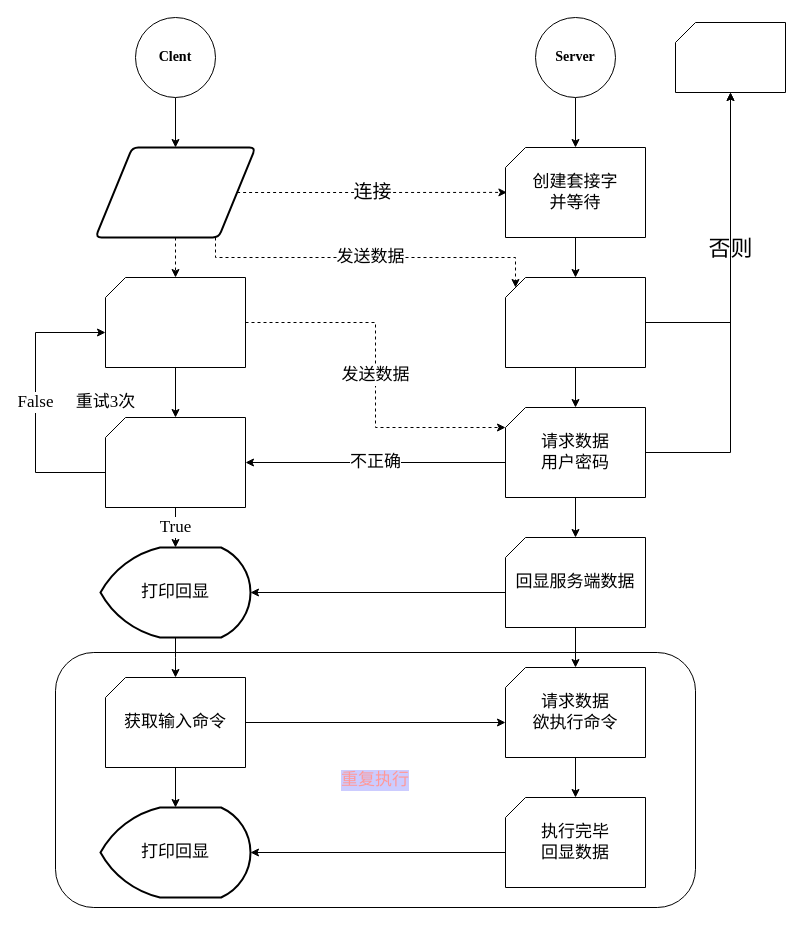
This 803x925 diagram has some shape labels left out. The centre of each missing label's shape, as x and y in pixels:
"写入日志 结束此客户 Socket实例" belongs at [730,57].
"接受连接 请求数据 （客户信息）" belongs at [575,322].
"用户输入 账号密码" belongs at [175,322].
"等待返回值" belongs at [175,462].
"获取本地 系统信息" belongs at [175,192].
